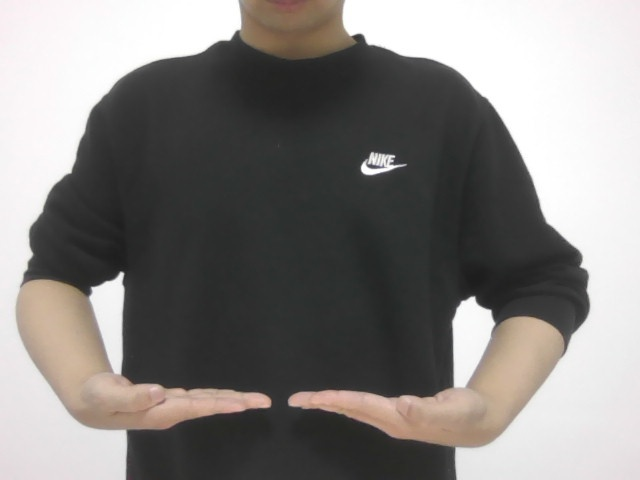today: (76, 340, 497, 462)
